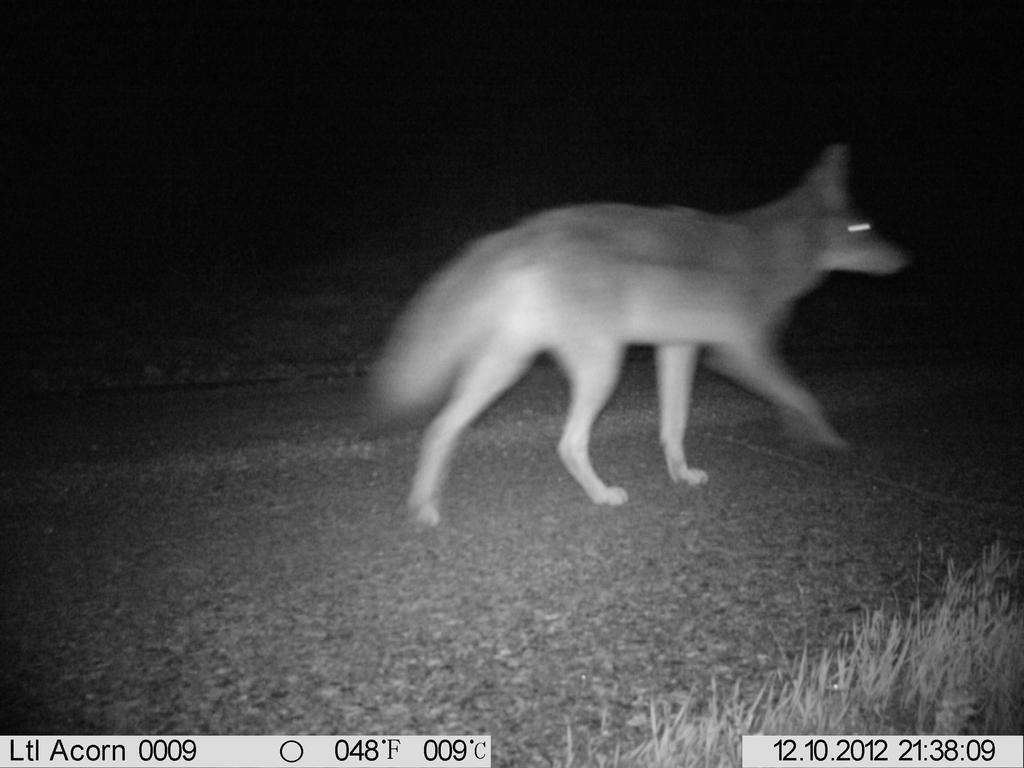coyote: (355, 140, 911, 532)
